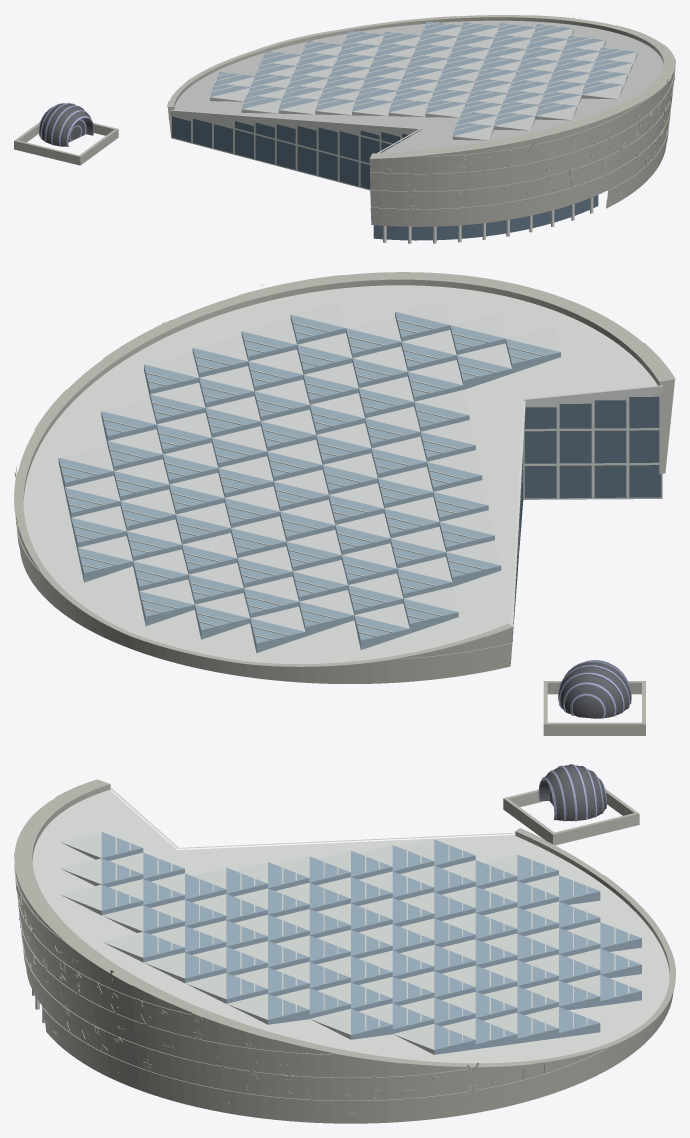
File: alexandria-bibliotheca.detail.glb
3 views of the same model, one above another, from view 1: azimuth 30°, elevation 25°; view 2: azimuth 150°, elevation 25°; view 3: azimuth 270°, elevation 25° (orthographic). The views are drawn at different scales.
Parts seen in each view (by area): view 1: Bibliotheca Alexandrina; view 2: Bibliotheca Alexandrina; view 3: Bibliotheca Alexandrina.
Boxes of the visible parts, <box> form: Bibliotheca Alexandrina: <box>14,14,675,243</box>; Bibliotheca Alexandrina: <box>14,272,675,735</box>; Bibliotheca Alexandrina: <box>14,764,675,1123</box>.
Size of the model in its own units: 193 by 34.3 by 159.
